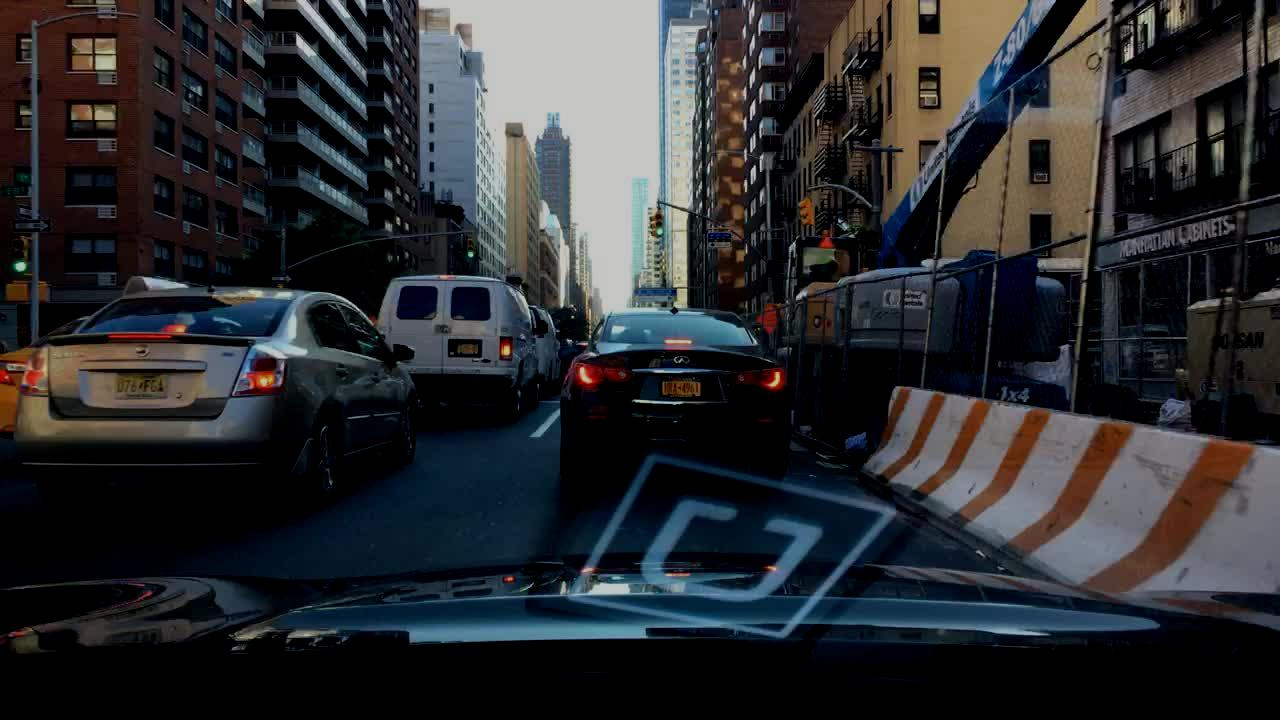Infiniti: (667, 350, 700, 370)
